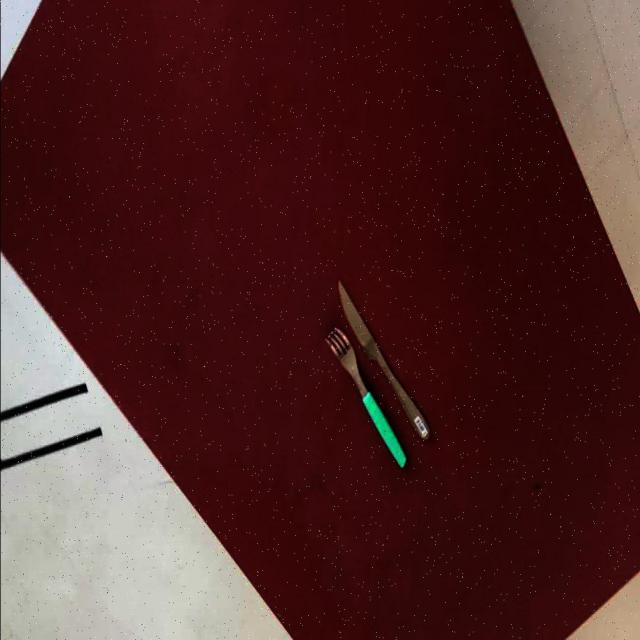Fork: (324, 324, 408, 469)
Knife: (337, 277, 433, 441), (324, 324, 408, 469)
